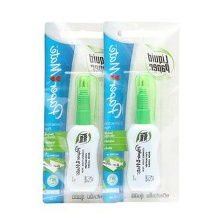book: (41, 18, 122, 204), (101, 20, 182, 204)
correction_fluid: (63, 71, 104, 193), (124, 71, 163, 192)
